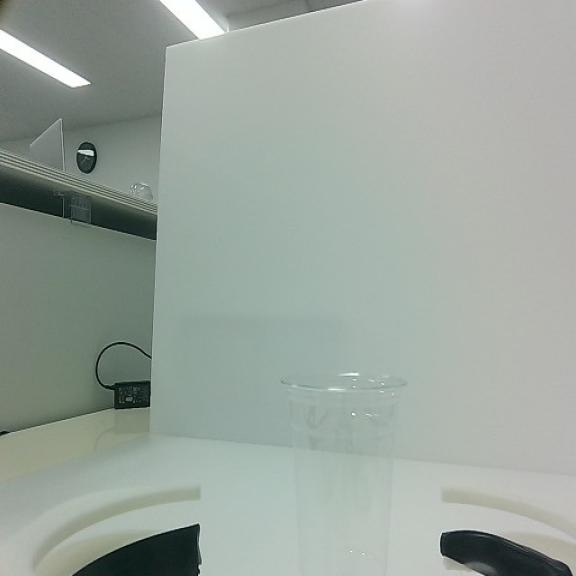Plastik: (280, 366, 410, 576)
